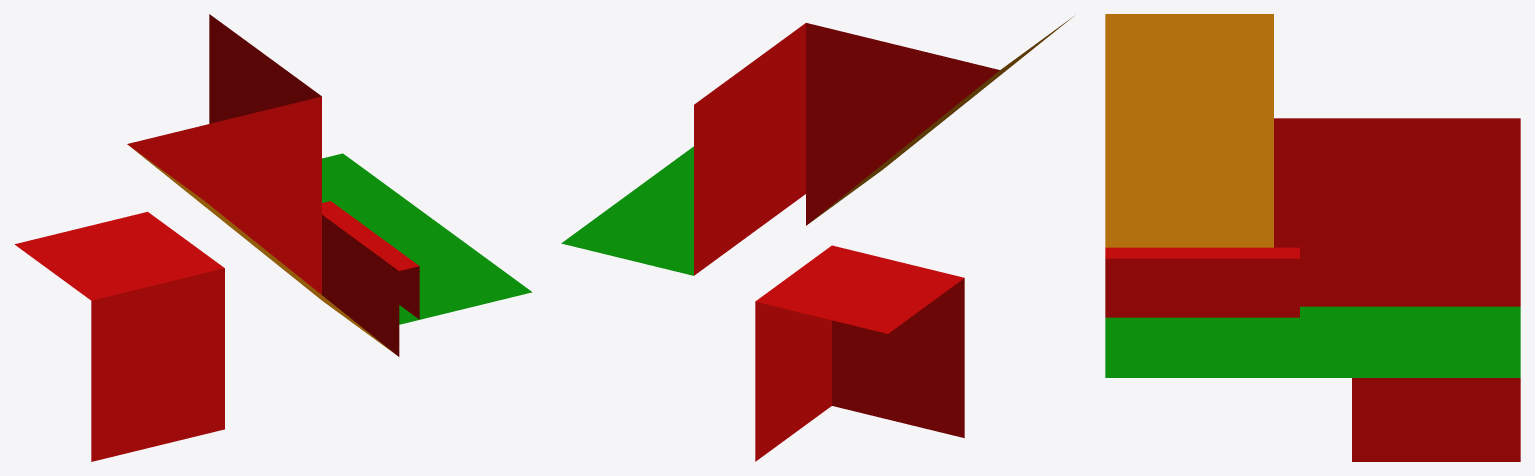
The picture shows the model from 3 angles, left to right: view 1: azimuth 30°, elevation 25°; view 2: azimuth 150°, elevation 25°; view 3: azimuth 270°, elevation 25°; orthographic projection. The views are drawn at different scales.
Parts seen in each view (by area): view 1: None_W_W_E_E_E_S_A_E_None; view 2: None_W_W_E_E_E_S_A_E_None; view 3: None_W_W_E_E_E_S_A_E_None.
Boxes of the visible parts, x1=… form: None_W_W_E_E_E_S_A_E_None: x1=15, y1=14, x2=532, y2=461; None_W_W_E_E_E_S_A_E_None: x1=561, y1=16, x2=1073, y2=461; None_W_W_E_E_E_S_A_E_None: x1=1105, y1=14, x2=1520, y2=461.
Bounding box in the file's own units: 100 × 100 × 100.
